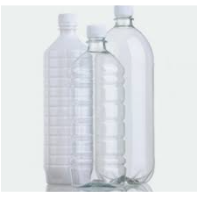Bottle: (101, 6, 155, 188), (43, 13, 95, 190), (74, 23, 126, 189)
